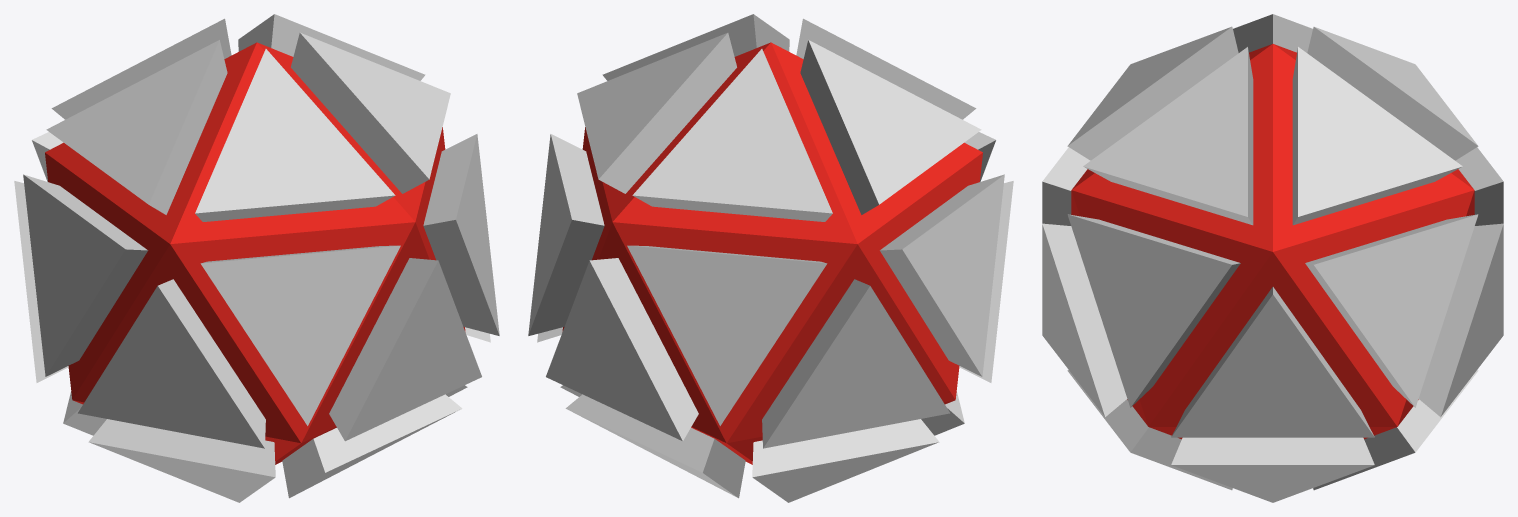
The model's file is ico core 1.fbx.
3 renders of one model, left to right at view 1: azimuth 30°, elevation 25°; view 2: azimuth 150°, elevation 25°; view 3: azimuth 270°, elevation 25°, orthographic.
Visible parts, largest first — view 1: Icosphere; view 2: Icosphere; view 3: Icosphere.
Part boxes in pixels (x1=…): Icosphere: x1=14, y1=14, x2=499, y2=502; Icosphere: x1=528, y1=14, x2=1013, y2=502; Icosphere: x1=1042, y1=14, x2=1503, y2=502.
Size of the model in its own units: 195 by 205 by 211.
